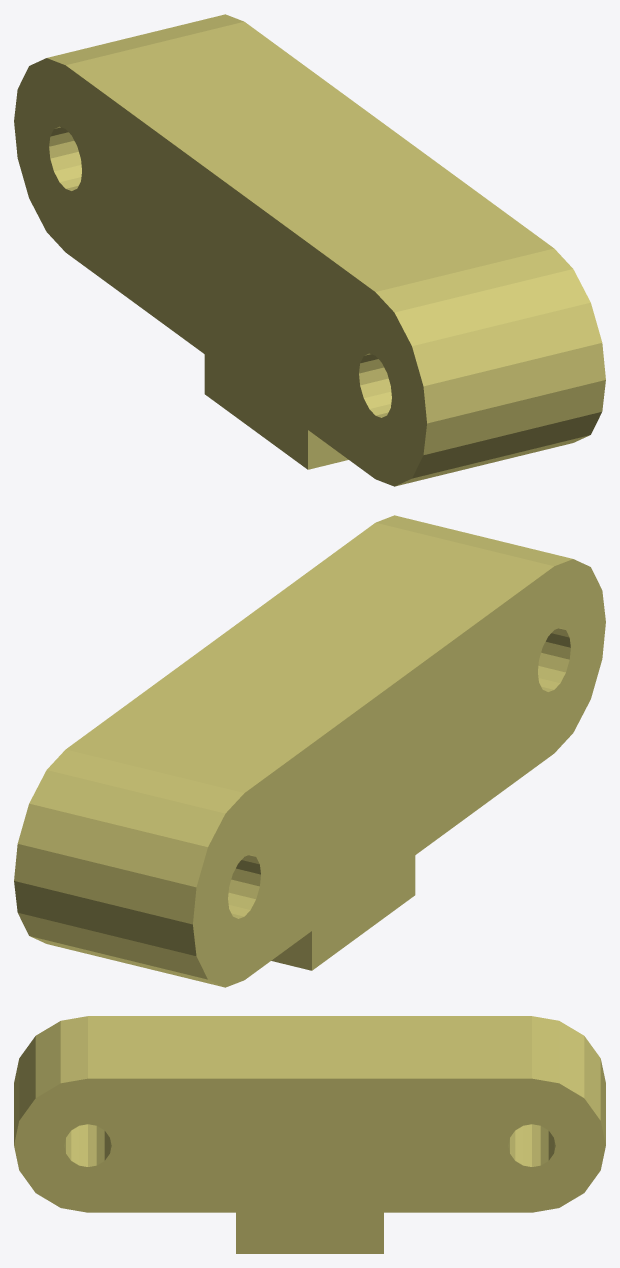
File: LARM_MIDDLE2_LINK_mesh.dae
The picture shows the model from 3 angles, top to bottom: view 1: azimuth 30°, elevation 25°; view 2: azimuth 150°, elevation 25°; view 3: azimuth 270°, elevation 25°; orthographic projection. The views are drawn at different scales.
Parts seen in each view (by area): view 1: LARM_MIDDLE2_LINK; view 2: LARM_MIDDLE2_LINK; view 3: LARM_MIDDLE2_LINK.
Boxes of the visible parts, x1,y1,x2,y2 form: LARM_MIDDLE2_LINK: (14,14,605,486); LARM_MIDDLE2_LINK: (14,515,605,987); LARM_MIDDLE2_LINK: (14,1016,605,1253).
Bounding box in the file's own units: 0.01 × 0.014 × 0.04.
